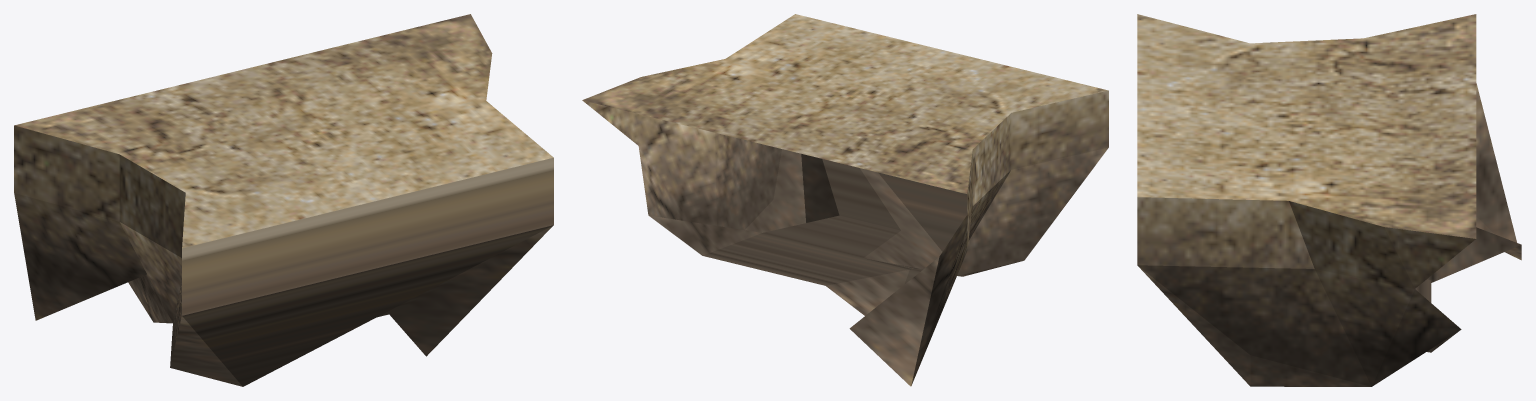
3 views of the same model, side by side, from view 1: azimuth 30°, elevation 25°; view 2: azimuth 150°, elevation 25°; view 3: azimuth 270°, elevation 25° (orthographic). The views are drawn at different scales.
Visible parts, largest first — view 1: SMDImport; view 2: SMDImport; view 3: SMDImport.
Boxes of the visible parts, x1,y1,x2,y2 form: SMDImport: [14, 14, 553, 386]; SMDImport: [582, 14, 1108, 386]; SMDImport: [1137, 14, 1521, 386].
Size of the model in its own units: 473 by 220 by 342.
